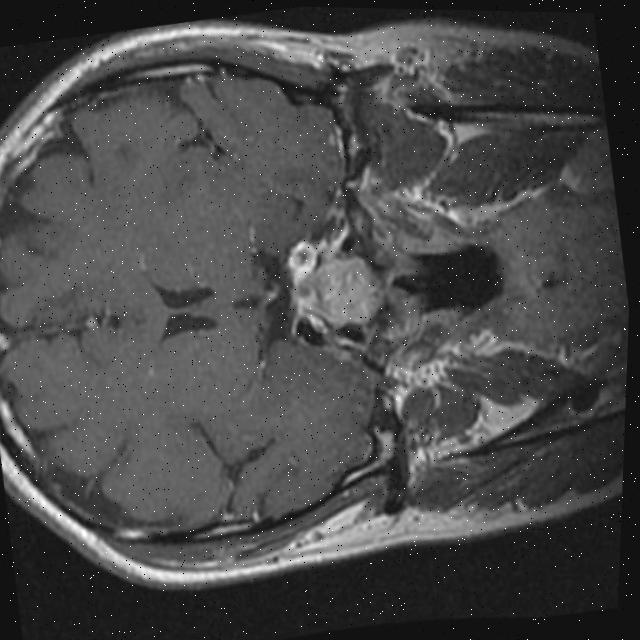Pituitary: (283, 246, 387, 335)
